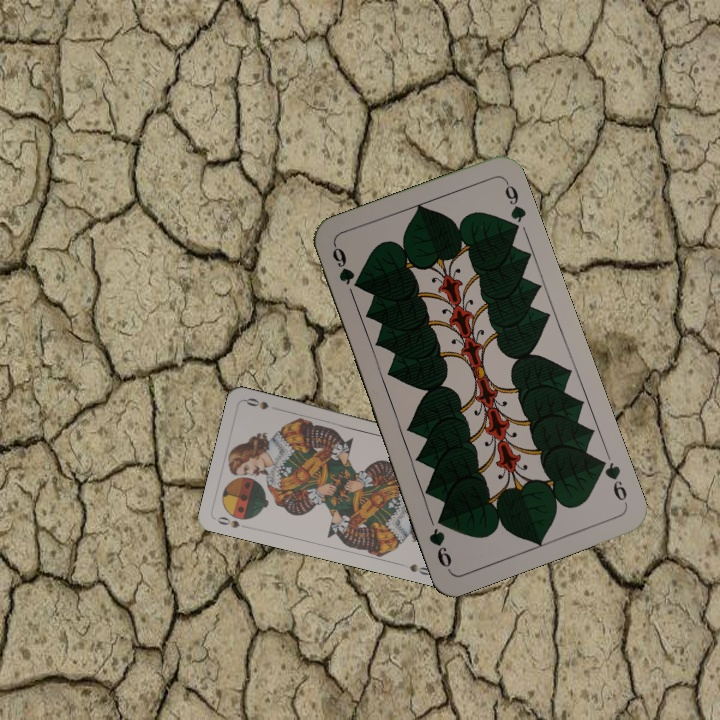G9: (592, 453, 630, 507), (328, 241, 357, 299)
SO: (213, 513, 242, 531)
